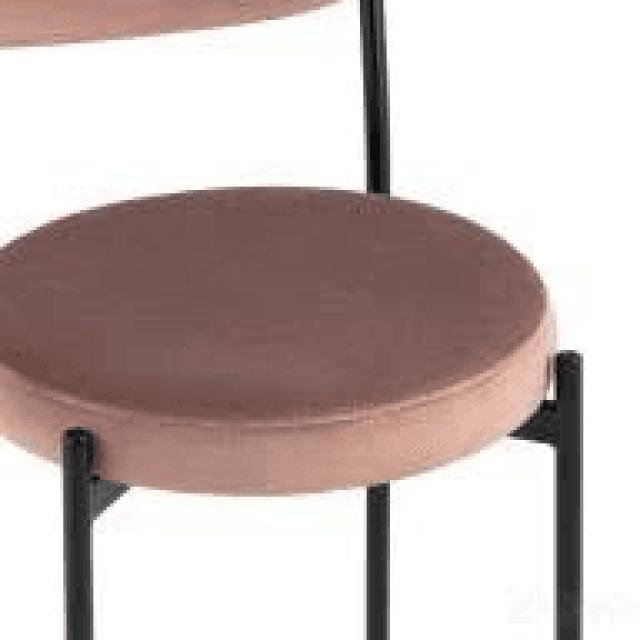chair: (0, 0, 589, 640), (0, 0, 556, 493)
